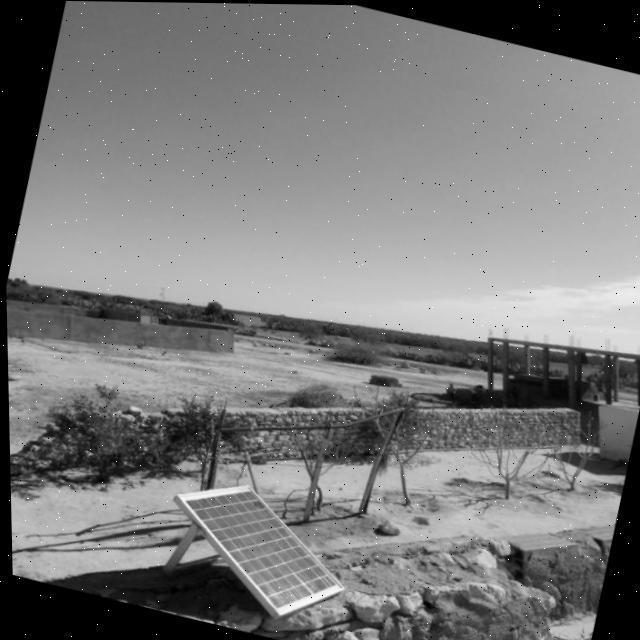Normal Solar Panel: (152, 468, 360, 628)
